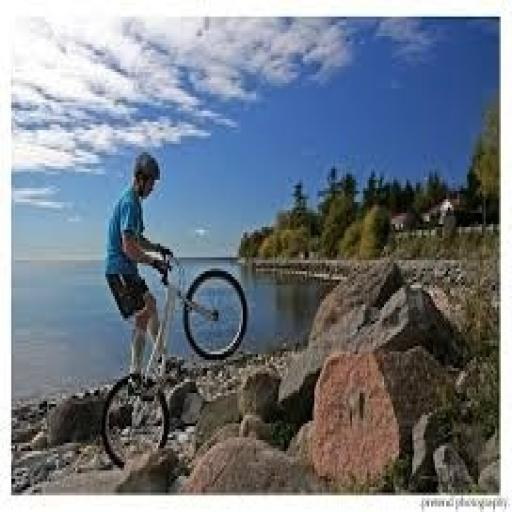cycling: (102, 150, 177, 390)
